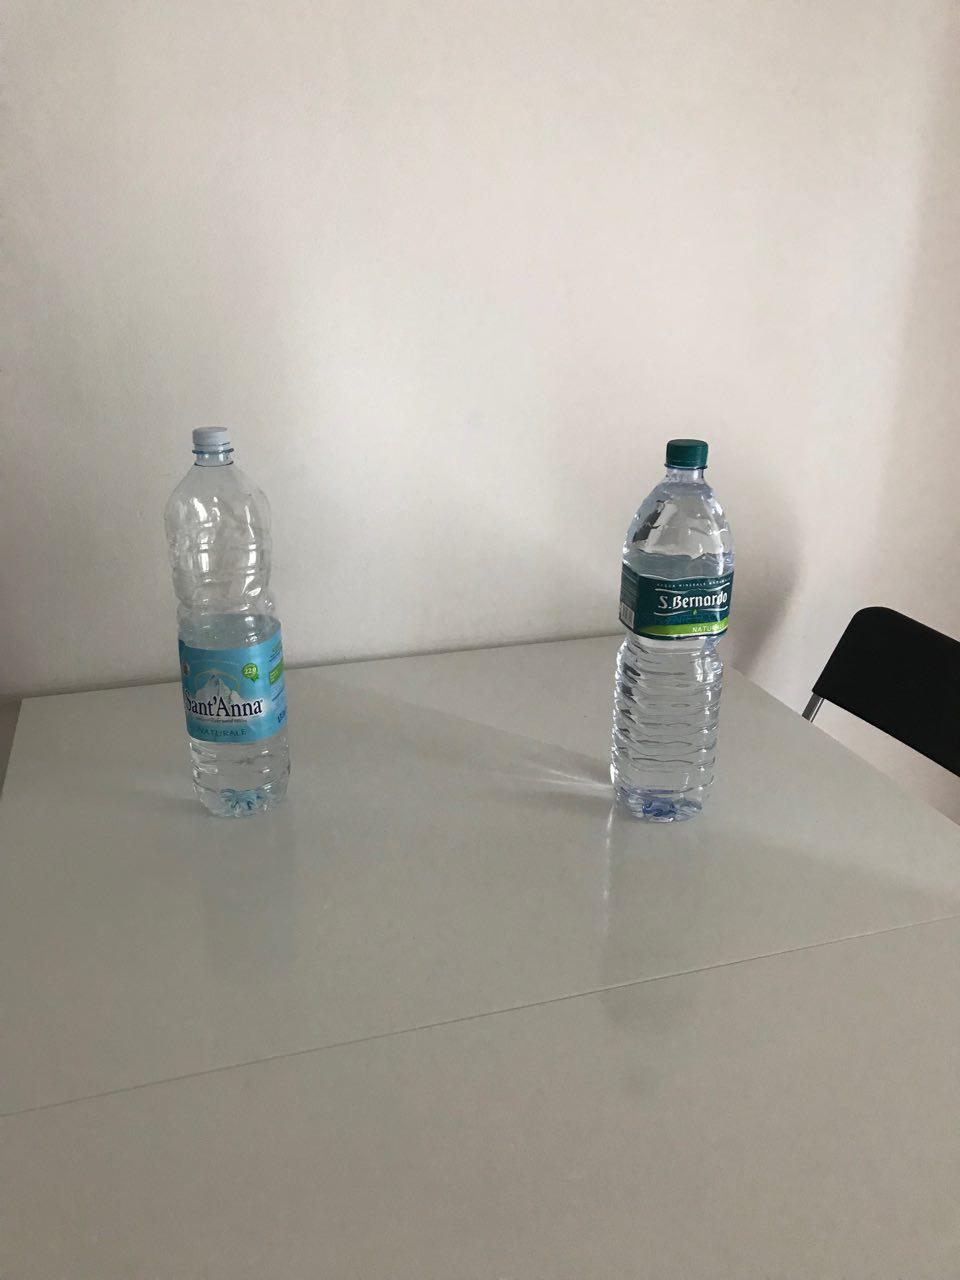san_bernardo: (608, 438, 735, 823)
